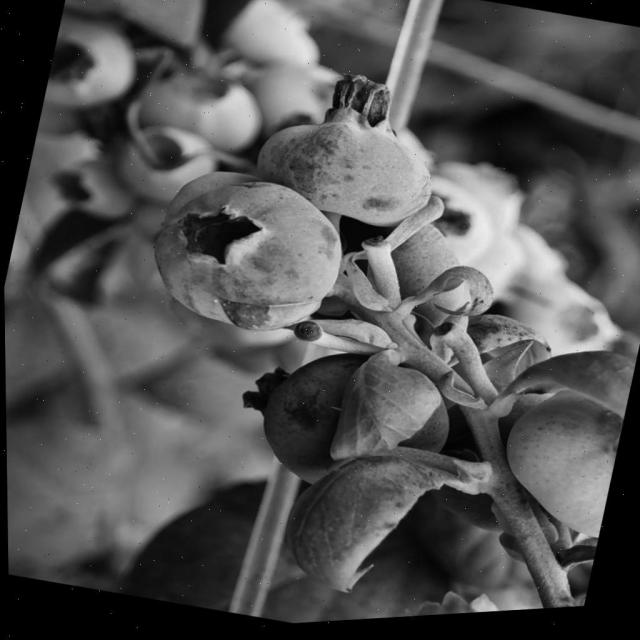Semi-RipeBlueBerry: (139, 159, 355, 352), (245, 55, 458, 242)
